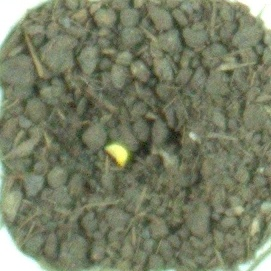chilli seed: (103, 142, 130, 169)
